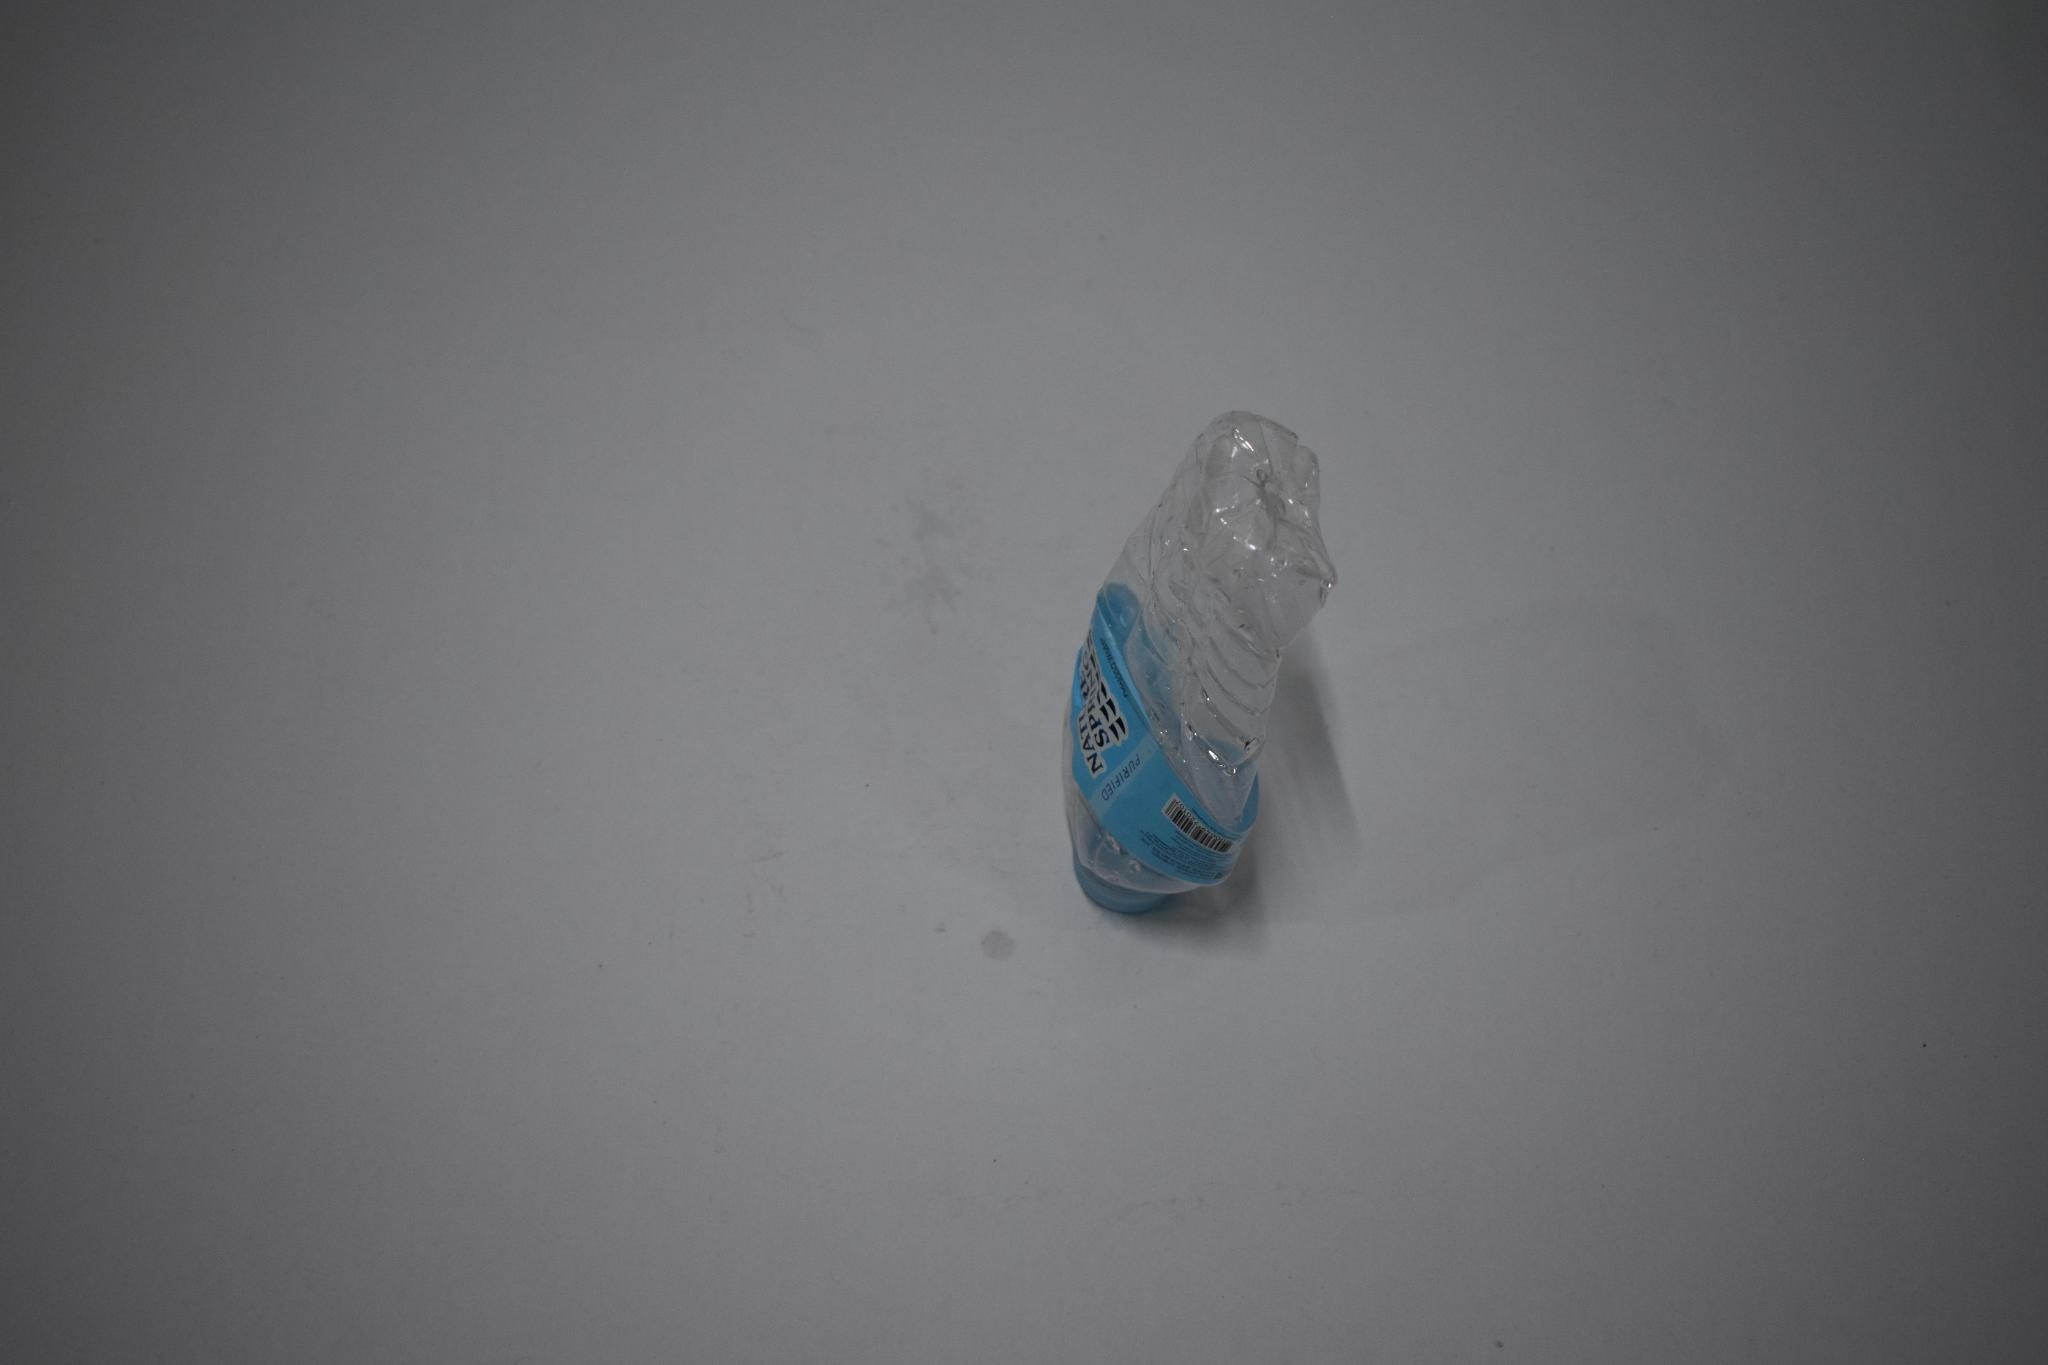bottle: (1051, 402, 1372, 923)
